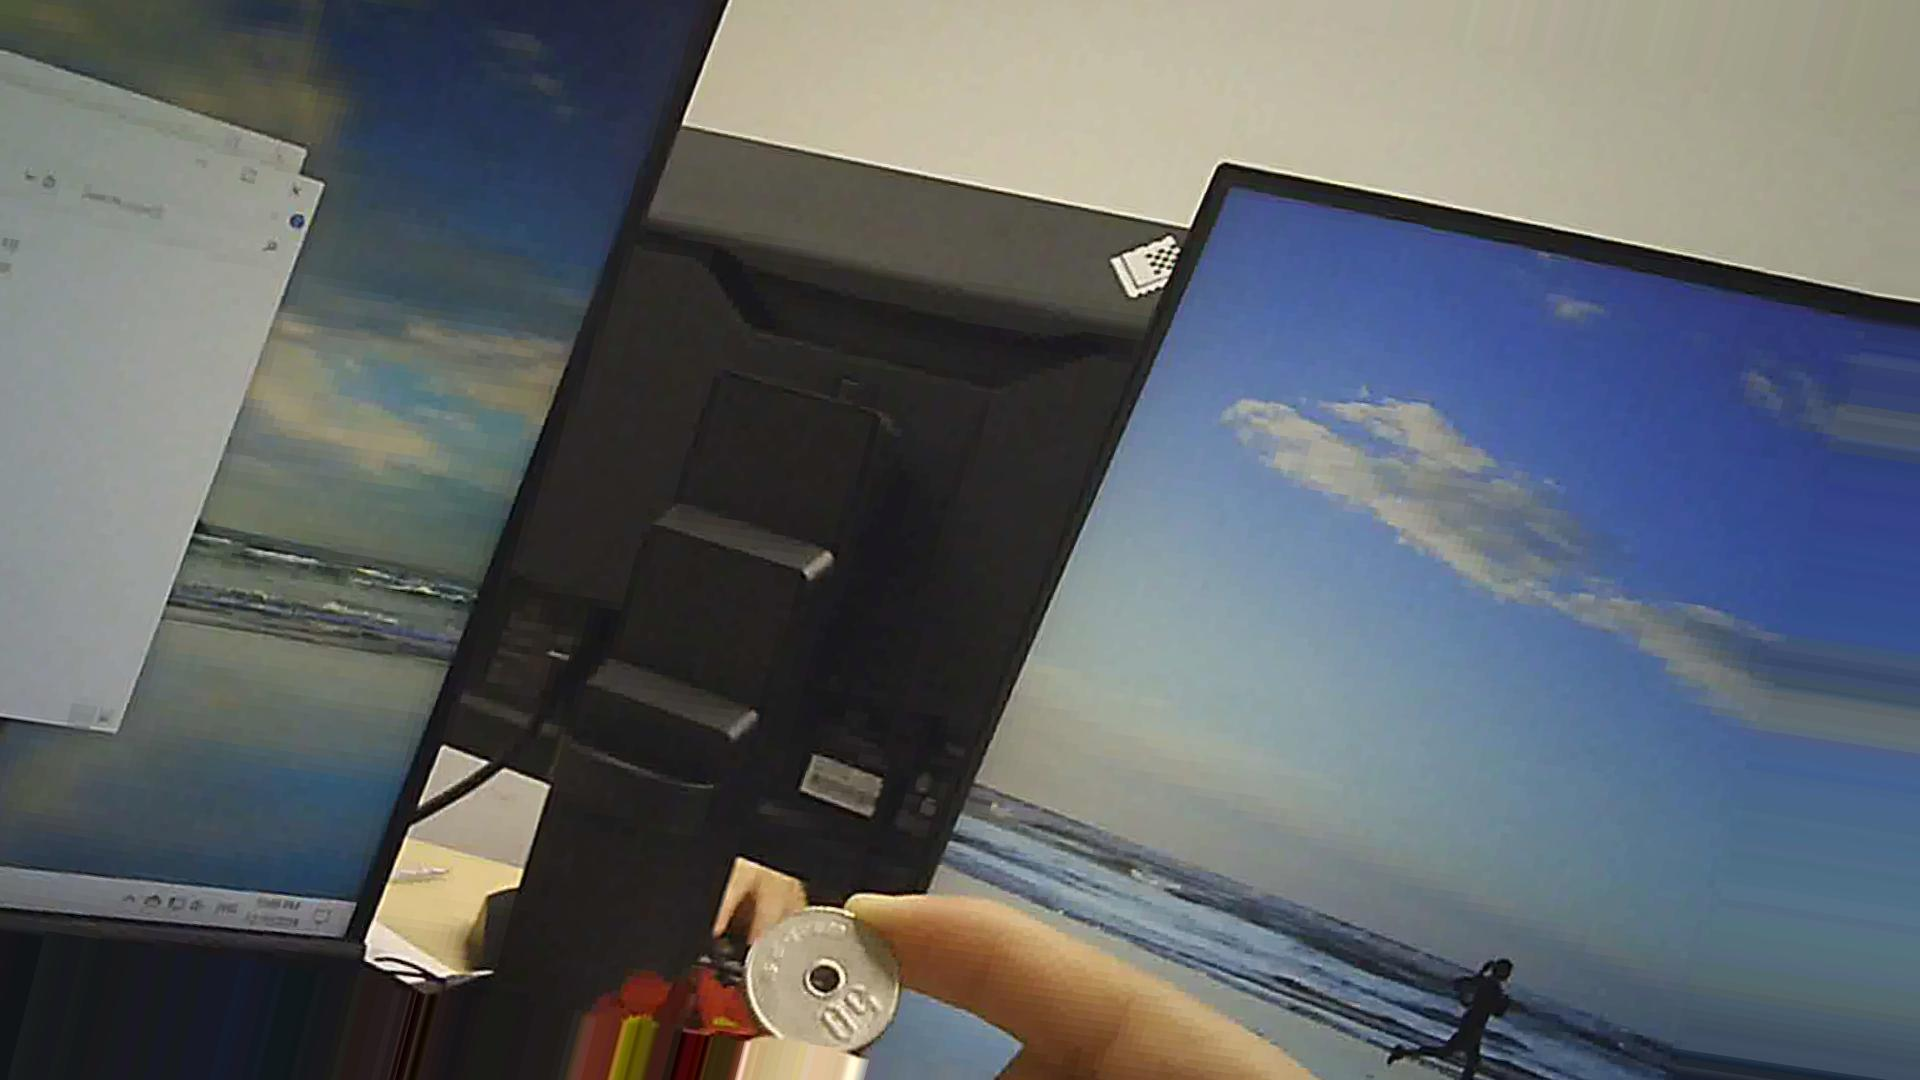50 Yen: (737, 884, 918, 1065)
